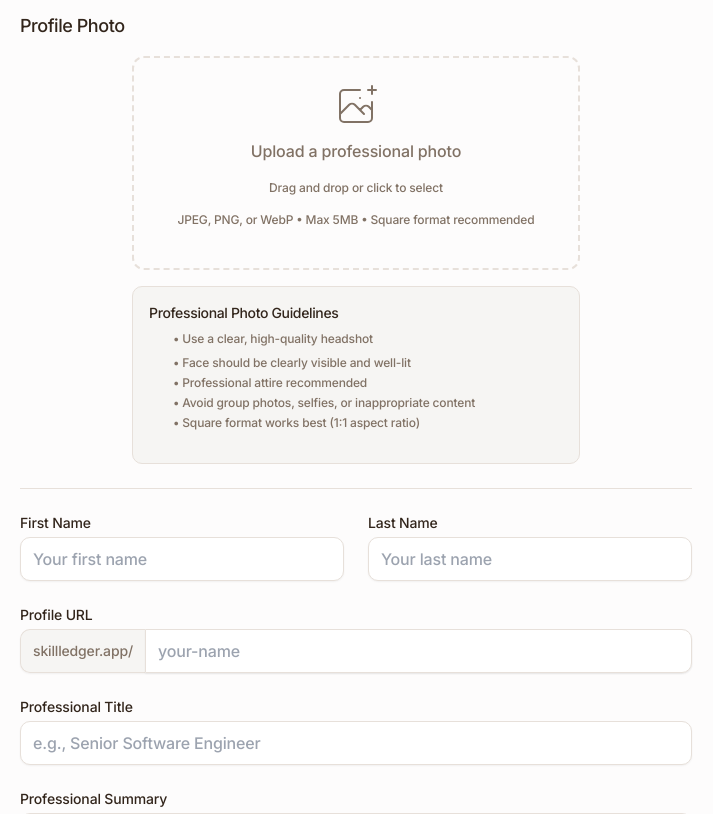
Test case: EnhancedProfileCreationForm › Slug Auto-Generation › should handle special characters in slug generation
In the field labelled "First Name": (182, 559) [20, 537, 344, 581], type "Mary-Jane"
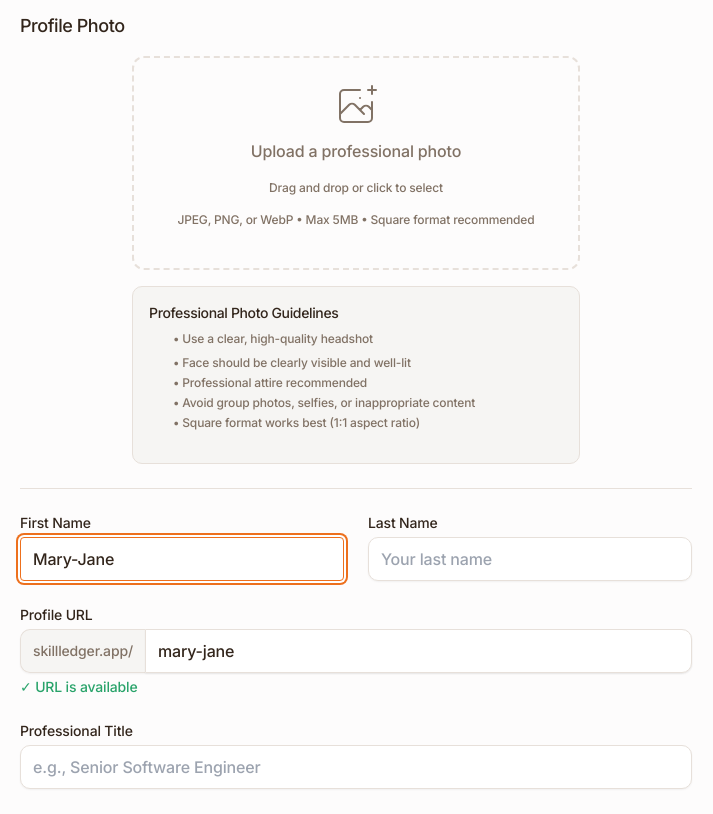
In the field labelled "Last Name": (530, 559) [368, 537, 692, 581], type "O'Brien"
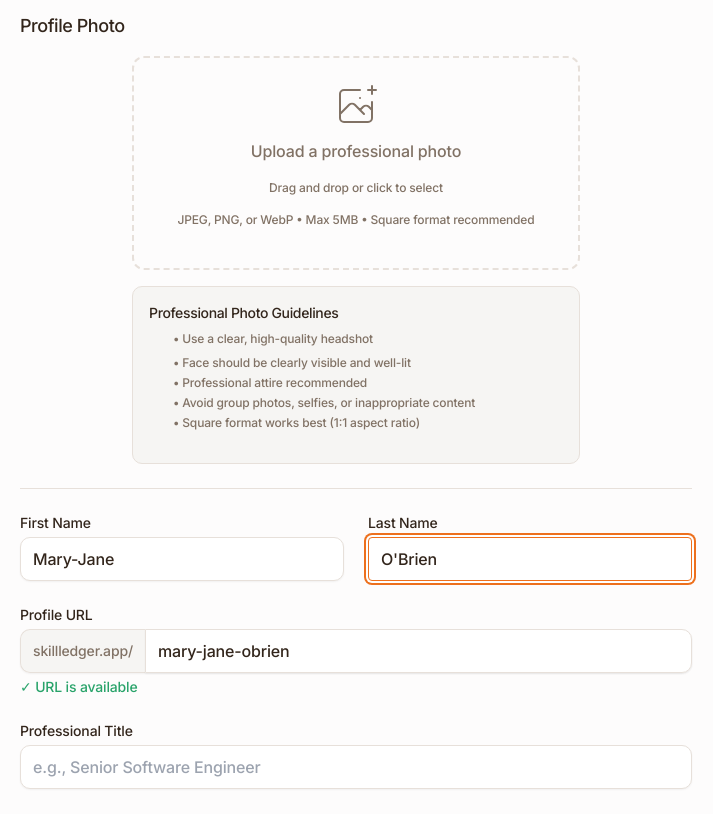
expect the field labelled "Profile URL" holds "mary-jane-obrien": met, box [145, 629, 692, 673]
